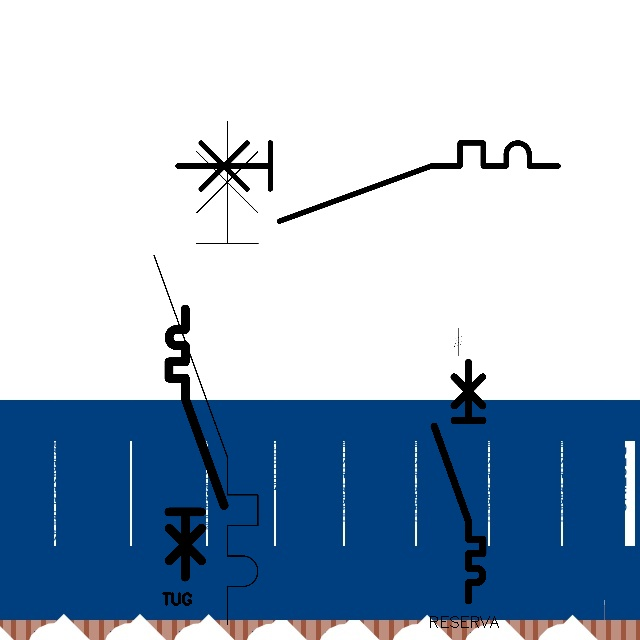interruptor_termomagnetico: (141, 108, 271, 638), (168, 133, 568, 231), (162, 302, 231, 584), (428, 356, 489, 607)
